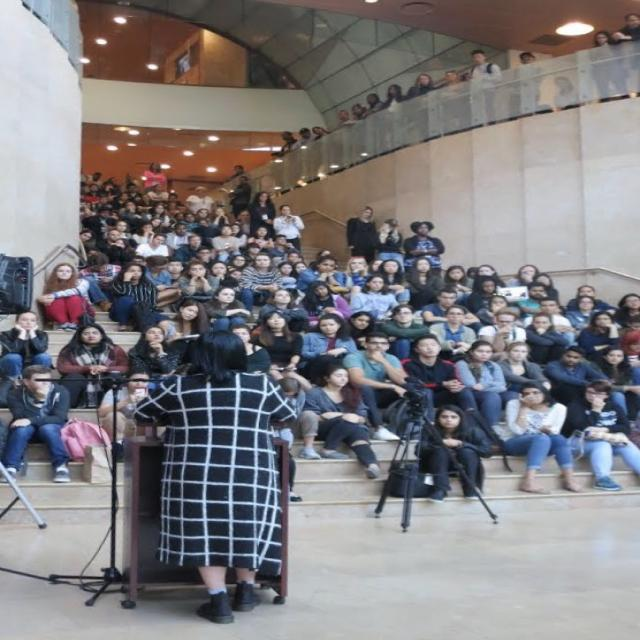body: (132, 328, 302, 627), (494, 380, 589, 495), (338, 330, 428, 443), (303, 362, 383, 479), (557, 379, 639, 492), (409, 402, 495, 505), (1, 364, 73, 484), (452, 338, 524, 439), (53, 321, 131, 410), (402, 333, 479, 415), (97, 367, 167, 452), (33, 260, 98, 332), (270, 376, 324, 460), (102, 260, 162, 334), (544, 345, 614, 405), (428, 302, 478, 386), (522, 311, 574, 390), (246, 309, 305, 372), (0, 310, 55, 377), (597, 347, 639, 427), (422, 286, 484, 340), (500, 341, 552, 403), (238, 251, 284, 321), (378, 303, 431, 362), (505, 50, 546, 126), (125, 324, 183, 376), (157, 299, 210, 355), (298, 312, 359, 360), (297, 280, 355, 329), (77, 251, 123, 312), (141, 254, 184, 314), (403, 220, 448, 277), (343, 204, 383, 266), (174, 260, 222, 311), (346, 274, 398, 321), (479, 306, 529, 353), (576, 310, 622, 360), (202, 285, 252, 331), (226, 324, 272, 374), (405, 256, 447, 310), (78, 163, 140, 193), (373, 260, 411, 306), (256, 288, 310, 320), (465, 274, 498, 326), (300, 255, 346, 292), (271, 204, 306, 252), (376, 217, 406, 272), (438, 264, 476, 306), (228, 254, 257, 308), (563, 284, 621, 311), (522, 296, 572, 327), (248, 191, 278, 241), (564, 294, 604, 330), (211, 224, 243, 264), (474, 293, 514, 325), (346, 310, 378, 350), (617, 313, 639, 370), (460, 49, 502, 78), (517, 281, 548, 318), (227, 175, 252, 220), (205, 260, 242, 290), (552, 76, 582, 112), (530, 271, 560, 306), (175, 234, 212, 262), (342, 256, 374, 288), (162, 222, 196, 251), (143, 160, 170, 196), (502, 264, 541, 288), (86, 207, 118, 236), (182, 186, 215, 214), (470, 264, 508, 288), (307, 247, 341, 273), (616, 292, 640, 328), (404, 74, 437, 100), (108, 237, 137, 266), (134, 233, 169, 257), (268, 234, 302, 258), (272, 130, 302, 157), (116, 200, 144, 228), (380, 84, 410, 110), (165, 256, 190, 286), (96, 227, 123, 253), (615, 13, 639, 42), (131, 220, 157, 246), (363, 92, 388, 119), (102, 219, 134, 240), (290, 127, 317, 151), (248, 225, 276, 248), (235, 210, 257, 239), (206, 204, 231, 228), (228, 223, 250, 250), (145, 183, 170, 206), (441, 68, 470, 87), (146, 203, 172, 224), (593, 30, 623, 48), (90, 195, 115, 216), (229, 222, 249, 248), (275, 260, 301, 280), (178, 212, 202, 233), (196, 247, 216, 271), (134, 193, 158, 212), (224, 164, 246, 184), (336, 109, 360, 127), (350, 103, 373, 121), (310, 125, 334, 141), (163, 192, 186, 208), (288, 260, 308, 278), (78, 193, 90, 222), (243, 240, 261, 259), (191, 207, 212, 222), (113, 192, 130, 210), (148, 217, 164, 234), (162, 214, 181, 228), (78, 229, 96, 243), (286, 252, 300, 264), (461, 65, 473, 78), (228, 266, 239, 278), (131, 254, 143, 264), (467, 266, 478, 276), (368, 259, 380, 267), (86, 248, 94, 257)
